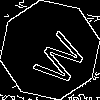W: (25, 25, 89, 89)
